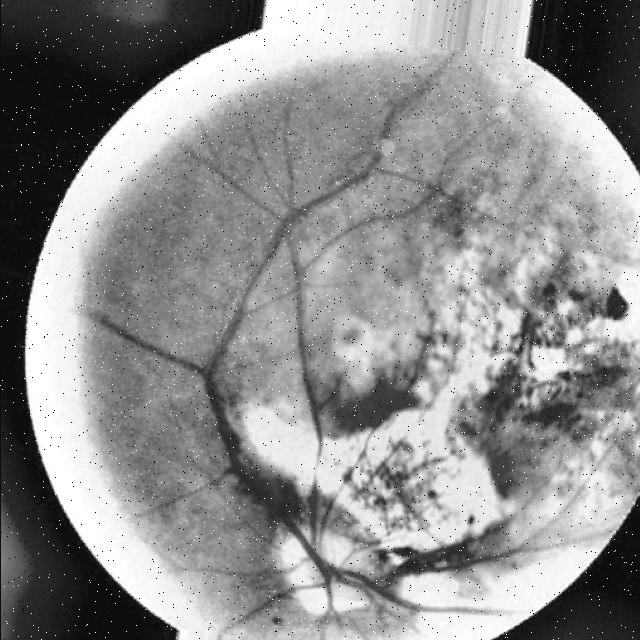Nerves: (91, 55, 524, 622), (319, 180, 465, 254), (353, 459, 440, 517), (281, 540, 296, 549)
Optic Disk: (287, 561, 327, 612), (330, 583, 368, 612), (321, 532, 353, 566), (296, 588, 321, 611)
